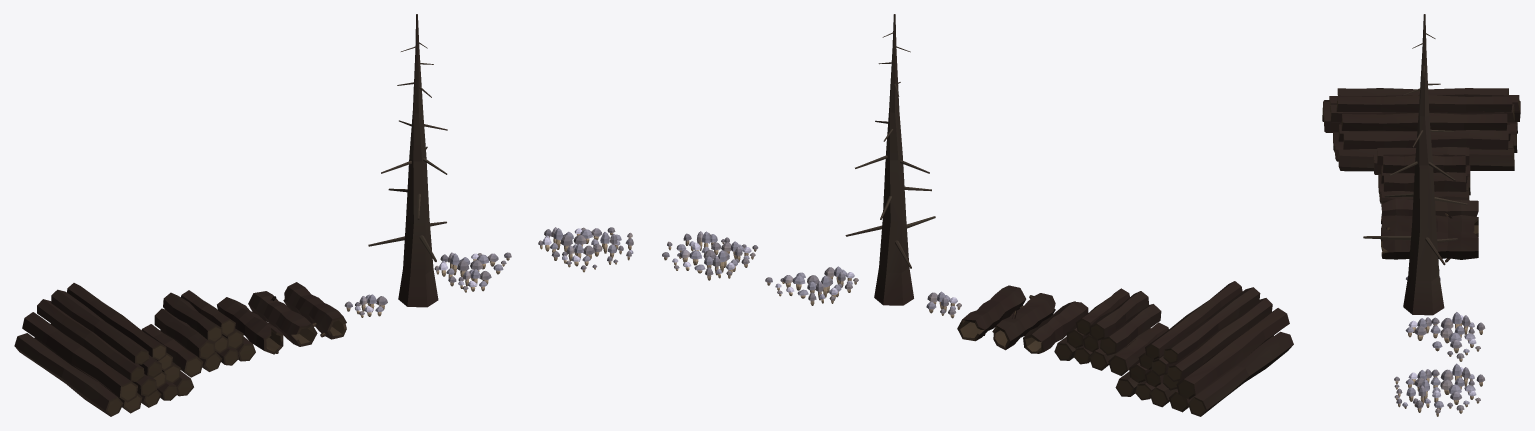
The model's file is logpiles_assets_tutorial.glb.
3 renders of one model, left to right at view 1: azimuth 30°, elevation 25°; view 2: azimuth 150°, elevation 25°; view 3: azimuth 270°, elevation 25°, orthographic. The views are drawn at different scales.
Parts seen in each view (by area): view 1: mesh_log_pile_02, tree_tutorial, mesh_log_pile_01, mesh_mushroom_floor_01.02, mesh_log_fallen_01, mesh_log_fallen_01.001, mesh_log_fallen_01.002, mesh_mushroom_floor_01.01, mesh_mushroom_floor_01; view 2: mesh_log_pile_02, tree_tutorial, mesh_log_pile_01, mesh_mushroom_floor_01.02, mesh_log_fallen_01.001, mesh_log_fallen_01, mesh_log_fallen_01.002, mesh_mushroom_floor_01.01; view 3: mesh_log_pile_02, tree_tutorial, mesh_log_pile_01, mesh_mushroom_floor_01.02, mesh_log_fallen_01.001, mesh_mushroom_floor_01.01, mesh_log_fallen_01, mesh_log_fallen_01.002.
Part boxes in pixels (box(x1,y1,x2,y2)): mesh_log_pile_02: box(14, 283, 193, 416); tree_tutorial: box(368, 14, 447, 307); mesh_log_pile_01: box(141, 290, 255, 377); mesh_mushroom_floor_01.02: box(538, 227, 633, 272); mesh_log_fallen_01: box(248, 291, 317, 346); mesh_log_fallen_01.001: box(283, 282, 346, 339); mesh_log_fallen_01.002: box(217, 297, 283, 354); mesh_mushroom_floor_01.01: box(434, 252, 511, 292); mesh_mushroom_floor_01: box(344, 294, 387, 317); mesh_log_pile_02: box(1115, 281, 1293, 416); tree_tutorial: box(845, 14, 935, 305); mesh_log_pile_01: box(1054, 288, 1168, 375); mesh_mushroom_floor_01.02: box(662, 231, 758, 280); mesh_log_fallen_01.001: box(957, 285, 1026, 341); mesh_log_fallen_01: box(992, 293, 1055, 350); mesh_log_fallen_01.002: box(1023, 301, 1088, 353); mesh_mushroom_floor_01.01: box(765, 266, 858, 305); mesh_log_pile_02: box(1322, 88, 1520, 171); tree_tutorial: box(1363, 14, 1467, 315); mesh_log_pile_01: box(1373, 147, 1470, 209); mesh_mushroom_floor_01.02: box(1394, 363, 1484, 416); mesh_log_fallen_01.001: box(1381, 231, 1478, 262); mesh_mushroom_floor_01.01: box(1405, 312, 1485, 361); mesh_log_fallen_01: box(1381, 212, 1478, 237); mesh_log_fallen_01.002: box(1381, 198, 1478, 224).
Bounding box in the file's own units: 11.2 × 5.37 × 3.23.
